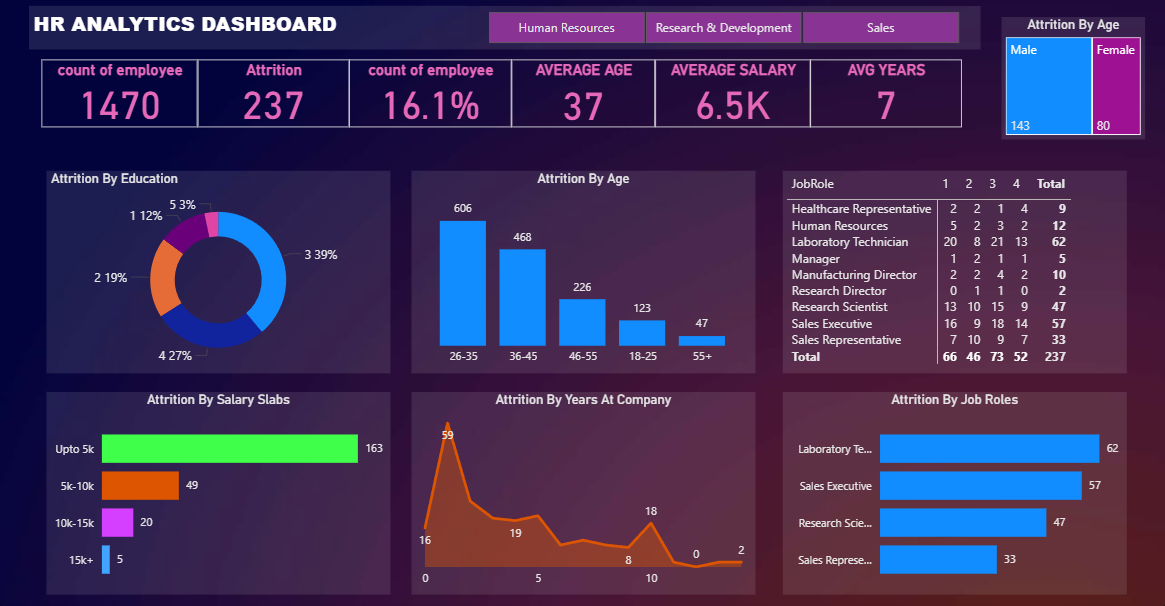

This screenshot's page, from the dashboard's own definition file:
{"tool":"powerbi","page":{"name":"Page 1","canvas":[1280,720],"ordinal":0},"visuals":[{"type":"card","title":"count of employee","fields":{"Values":["CountNonNull(HR_Analytics.EmpID)"]},"box":[46.7,90.6,171.5,74.1],"z":0},{"type":"card","title":"Attrition","fields":{"Values":["Sum(HR_Analytics.ATTRITION COUNT)"]},"box":[218.2,90.6,166,74.1],"z":1000},{"type":"card","title":"AVERAGE AGE","fields":{"Values":["Avg(HR_Analytics.Age)"]},"box":[562.6,90.6,157.8,74.1],"z":2000},{"type":"card","title":"count of employee","fields":{"Values":["HR_Analytics.AttritionRate"]},"box":[384.2,90.6,178.4,74.1],"z":3000},{"type":"card","title":"AVERAGE SALARY","fields":{"Values":["Avg(HR_Analytics.MonthlyIncome)"]},"box":[720.4,90.6,170.2,74.1],"z":4000},{"type":"card","title":"AVG YEARS","fields":{"Values":["Avg(HR_Analytics.YearsAtCompany)"]},"box":[890.6,90.6,166,74.1],"z":5000},{"type":"donutChart","title":"Attrition By  Education","fields":{"Category":["HR_Analytics.Education"],"Y":["CountNonNull(HR_Analytics.Attrition)"]},"box":[52.1,212.7,377.4,222.3],"z":6000},{"type":"columnChart","title":"Attrition By  Age","fields":{"Category":["HR_Analytics.AgeGroup"],"Y":["CountNonNull(HR_Analytics.Attrition)"]},"box":[452.8,212.7,377.4,222.3],"z":7000},{"type":"pivotTable","fields":{"Rows":["HR_Analytics.JobRole"],"Columns":["HR_Analytics.JobSatisfaction"],"Values":["Sum(HR_Analytics.ATTRITION COUNT)"]},"box":[860.4,212.7,377.4,222.3],"z":8000},{"type":"clusteredBarChart","title":"Attrition By  Salary Slabs","fields":{"Category":["HR_Analytics.SalarySlab"],"Y":["Sum(HR_Analytics.ATTRITION COUNT)"]},"box":[52.1,455.6,377.4,222.3],"z":9000},{"type":"clusteredBarChart","title":"Attrition By  Job Roles","fields":{"Category":["HR_Analytics.JobRole"],"Y":["Sum(HR_Analytics.ATTRITION COUNT)"]},"box":[860.4,455.6,377.4,222.3],"z":10000},{"type":"areaChart","title":"Attrition By  Years At Company","fields":{"Category":["HR_Analytics.YearsAtCompany"],"Y":["Sum(HR_Analytics.ATTRITION COUNT)"]},"box":[452.8,455.6,377.4,222.3],"z":11000},{"type":"treemap","title":"Attrition By  Age","fields":{"Group":["HR_Analytics.Gender"],"Values":["Sum(HR_Analytics.ATTRITION COUNT)"]},"box":[1100.5,43.9,157.8,134.5],"z":12000},{"type":"slicer","fields":{"Values":["HR_Analytics.Department"]},"box":[511.8,31.6,565.4,48],"z":13000},{"type":"textbox","box":[32.9,31.6,478.9,48],"z":14000}]}

Visuals, with their boxes on the page's 1280x720 design canvas (x1, y1, x2, y2). These are canvas units, not pixel positions in the 1165x606 screenshot, which may show the page scaled, cropped or inside an application window:
"count of employee" card: crop(47, 91, 218, 165)
"Attrition" card: crop(218, 91, 384, 165)
"AVERAGE AGE" card: crop(563, 91, 720, 165)
"count of employee" card: crop(384, 91, 563, 165)
"AVERAGE SALARY" card: crop(720, 91, 891, 165)
"AVG YEARS" card: crop(891, 91, 1057, 165)
"Attrition By  Education" donutChart: crop(52, 213, 430, 435)
"Attrition By  Age" columnChart: crop(453, 213, 830, 435)
pivotTable - HR_Analytics.JobRole x HR_Analytics.JobSatisfaction: crop(860, 213, 1238, 435)
"Attrition By  Salary Slabs" clusteredBarChart: crop(52, 456, 430, 678)
"Attrition By  Job Roles" clusteredBarChart: crop(860, 456, 1238, 678)
"Attrition By  Years At Company" areaChart: crop(453, 456, 830, 678)
"Attrition By  Age" treemap: crop(1100, 44, 1258, 178)
slicer - HR_Analytics.Department: crop(512, 32, 1077, 80)
textbox: crop(33, 32, 512, 80)
